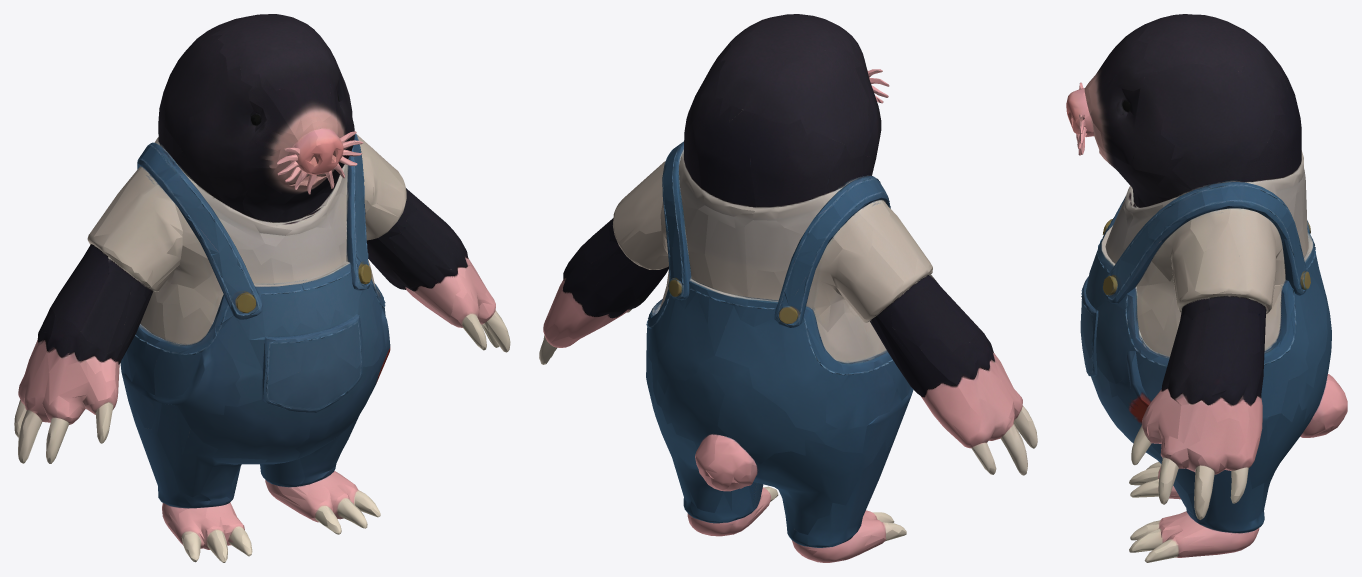
The model's file is mole_meshy.glb.
3 renders of one model, left to right at view 1: azimuth 30°, elevation 25°; view 2: azimuth 150°, elevation 25°; view 3: azimuth 270°, elevation 25°, orthographic.
Bounding box in the file's own units: 1.9 × 1.89 × 0.9759.
1 material, 1 textured.
